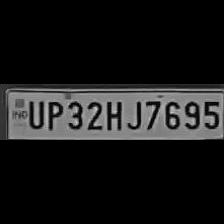2: (84, 98, 104, 132)
3: (64, 98, 82, 132)
5: (201, 97, 221, 130)
6: (162, 97, 180, 131)
7: (142, 97, 160, 131)
9: (180, 97, 200, 130)
H: (102, 97, 124, 131)
J: (124, 97, 142, 131)
P: (45, 97, 63, 131)
U: (25, 97, 43, 130)
